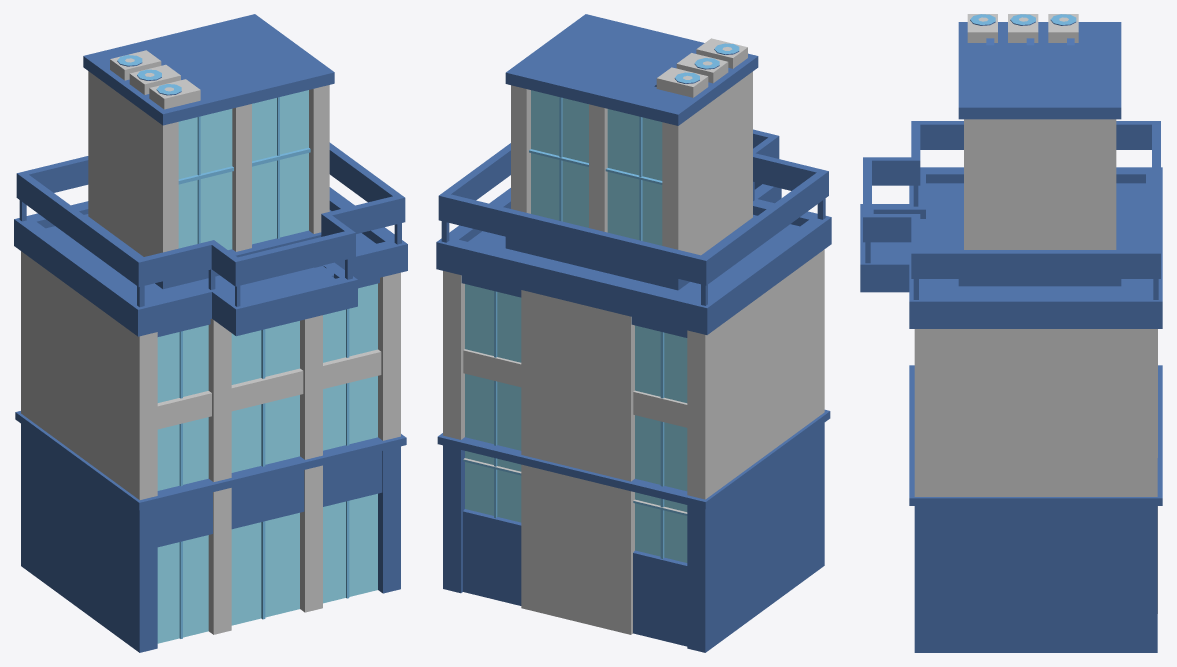
Rendered from Apartment_1.fbx.
The picture shows the model from 3 angles, left to right: view 1: azimuth 30°, elevation 25°; view 2: azimuth 150°, elevation 25°; view 3: azimuth 270°, elevation 25°; orthographic projection. The views are drawn at different scales.
Visible parts, largest first — view 1: Apartment_1; view 2: Apartment_1; view 3: Apartment_1.
Boxes of the visible parts, left/top/right/bottom form: Apartment_1: left=14, top=14, right=407, bottom=652; Apartment_1: left=436, top=14, right=831, bottom=652; Apartment_1: left=860, top=14, right=1162, bottom=652.
Size of the model in its own units: 3.73 by 6.92 by 3.55.
